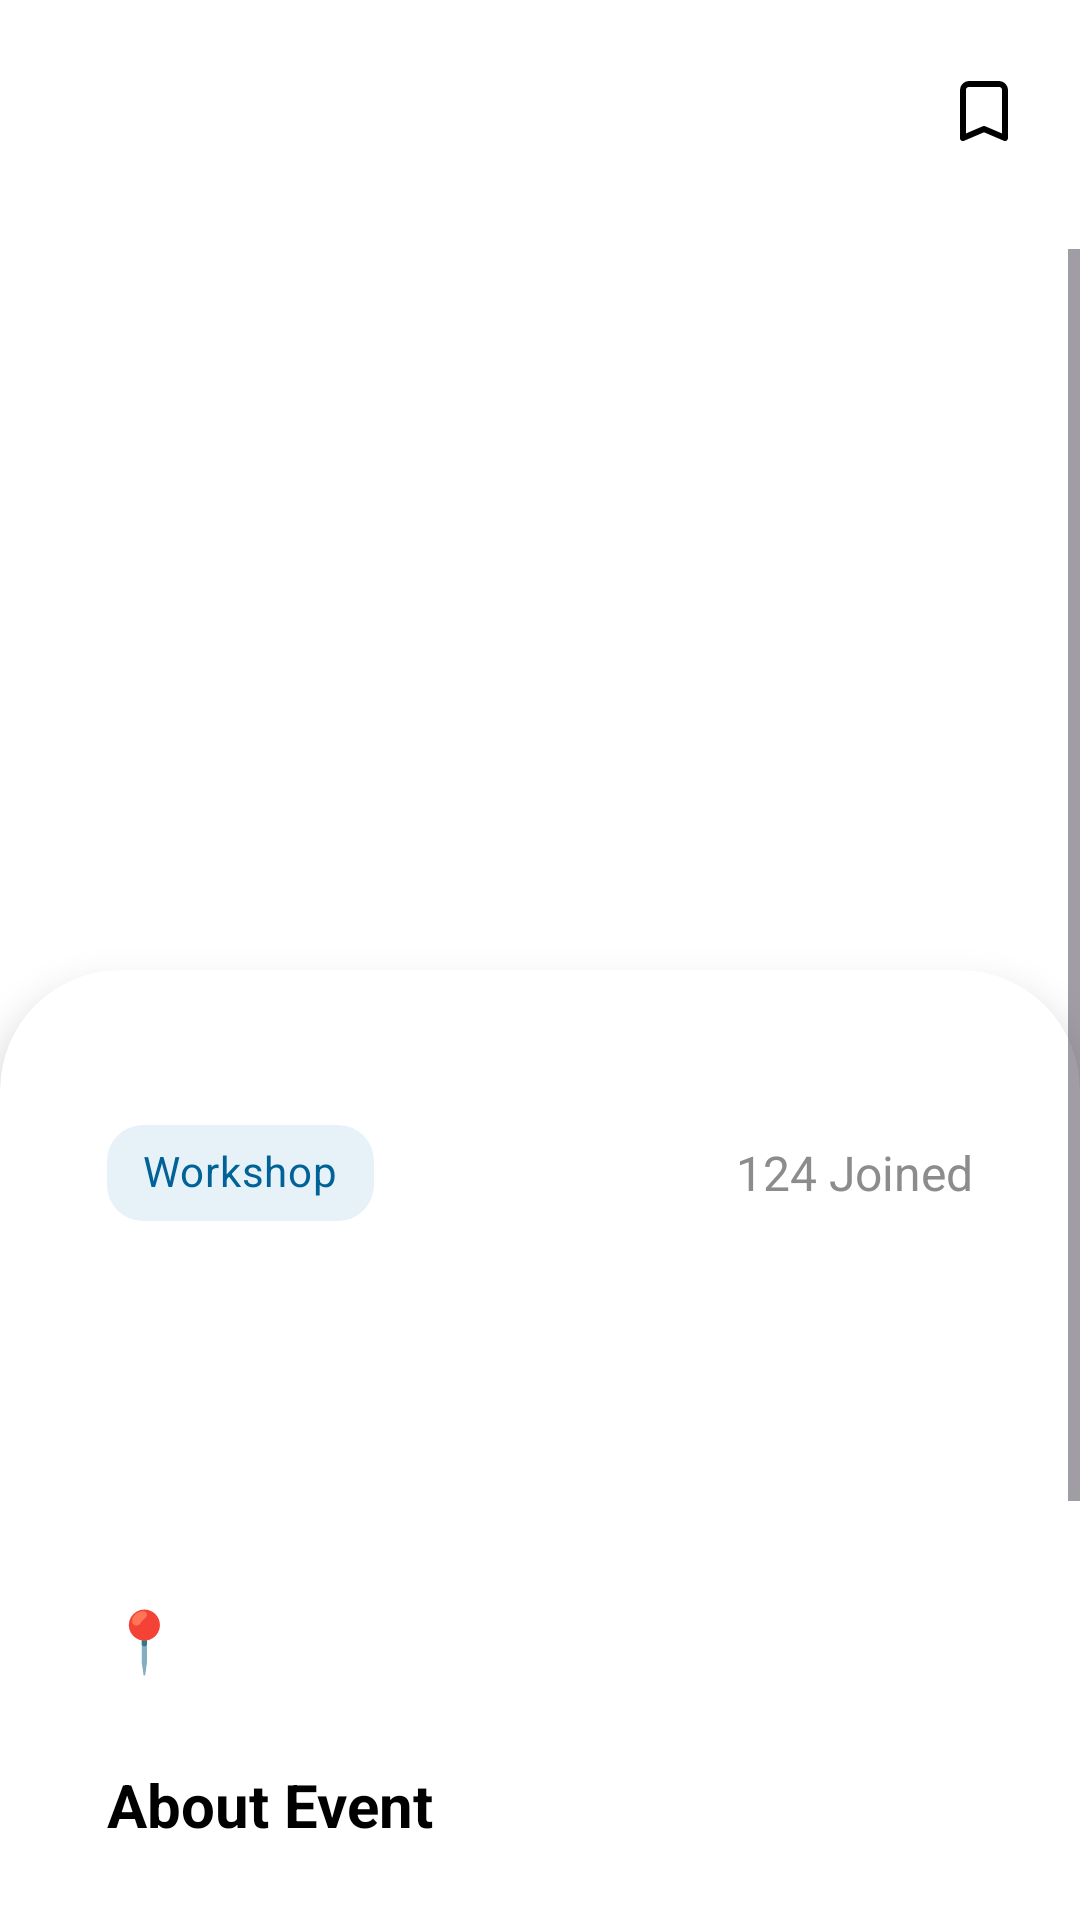

Point at icon controls on the screen. Image size 1080w x 1920h, points as (x,y).
Bookmark this event: (984,111)
